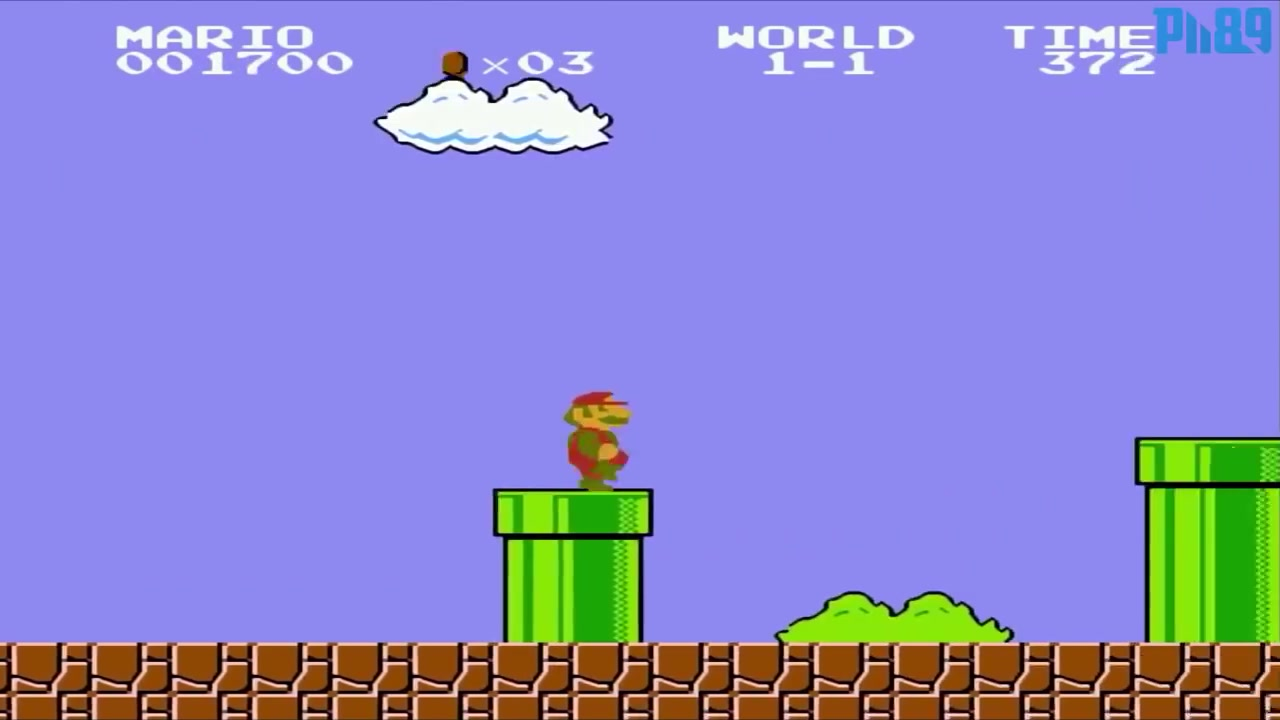mario: (546, 382, 637, 495)
